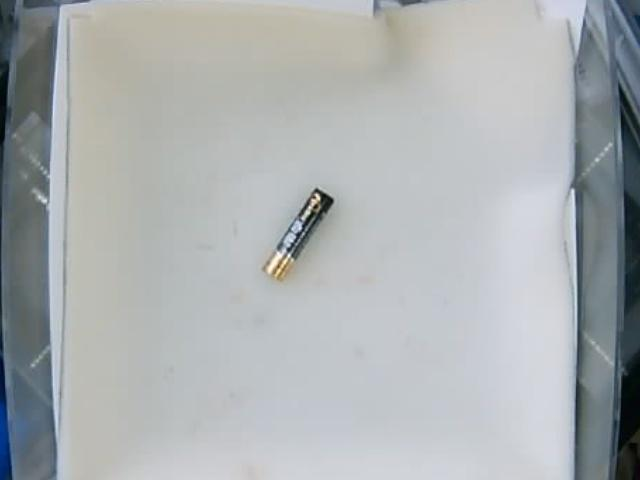Battery: (264, 187, 335, 280)
